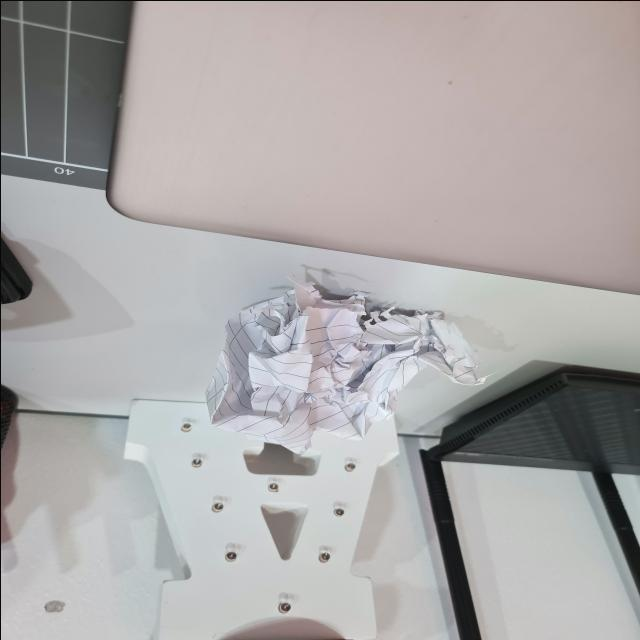Paper: (114, 244, 511, 486)
